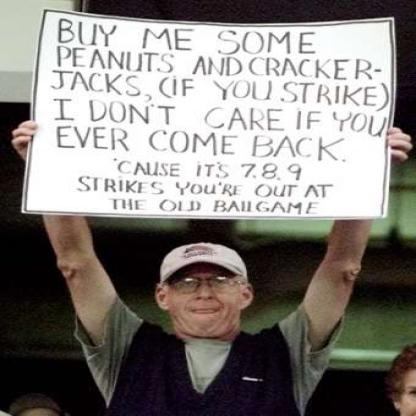face: (165, 246, 246, 337)
